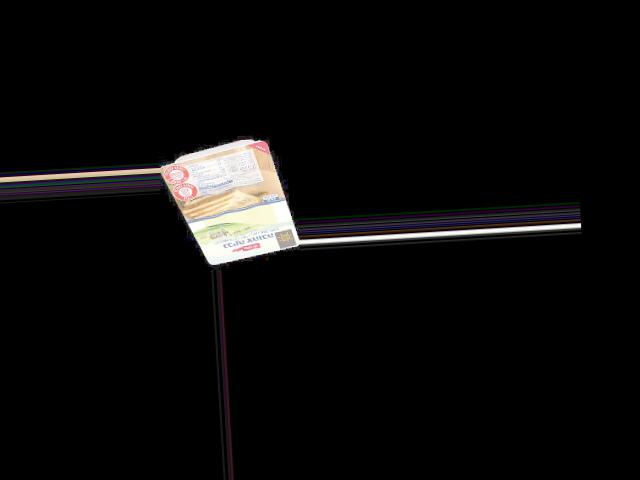cheese: (179, 140, 289, 265)
